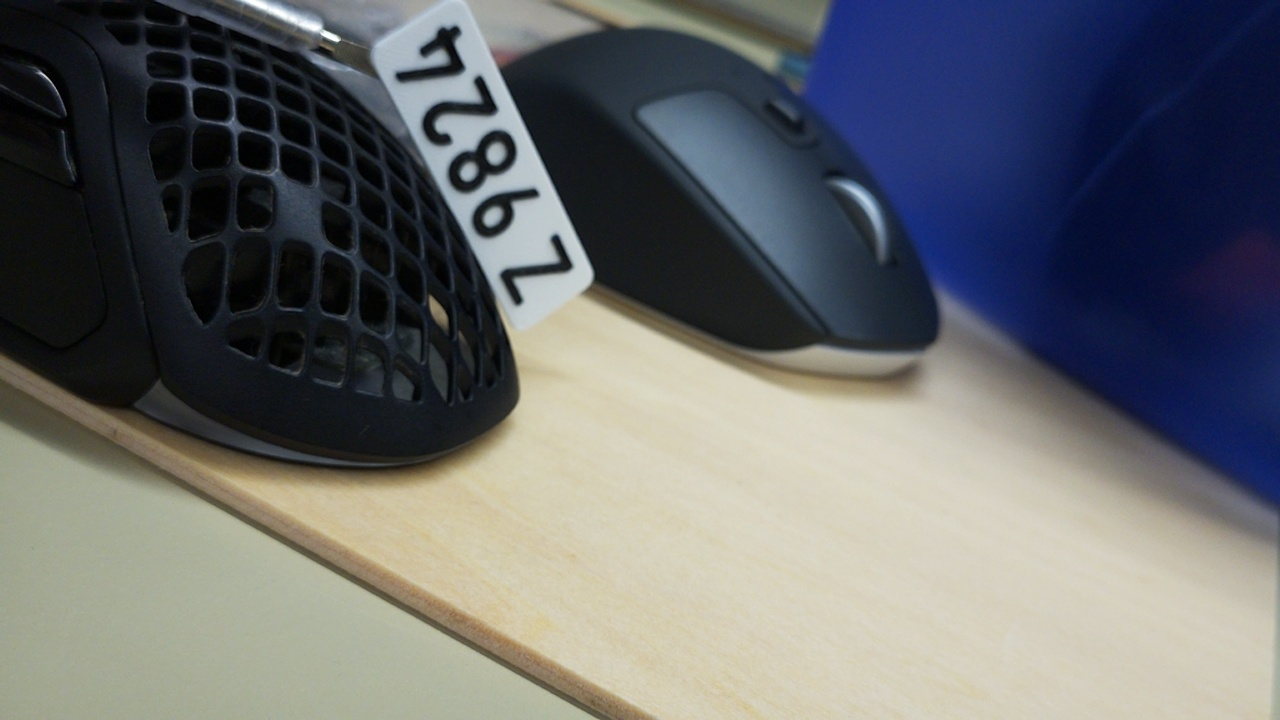license_plate: (365, 0, 598, 337)
